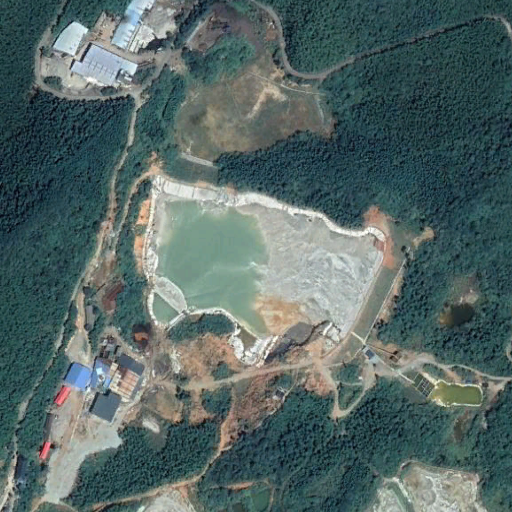tp: (141, 178, 409, 370)
